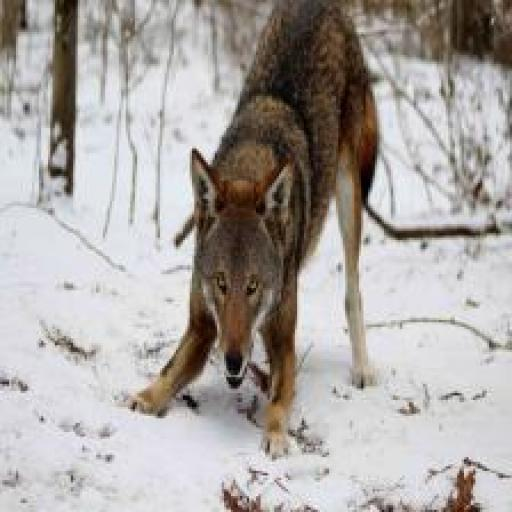wolf: (121, 0, 400, 475)
